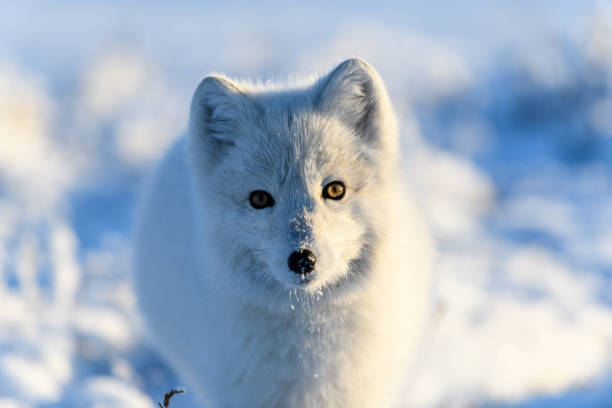arcticfox: (218, 99, 386, 315)
